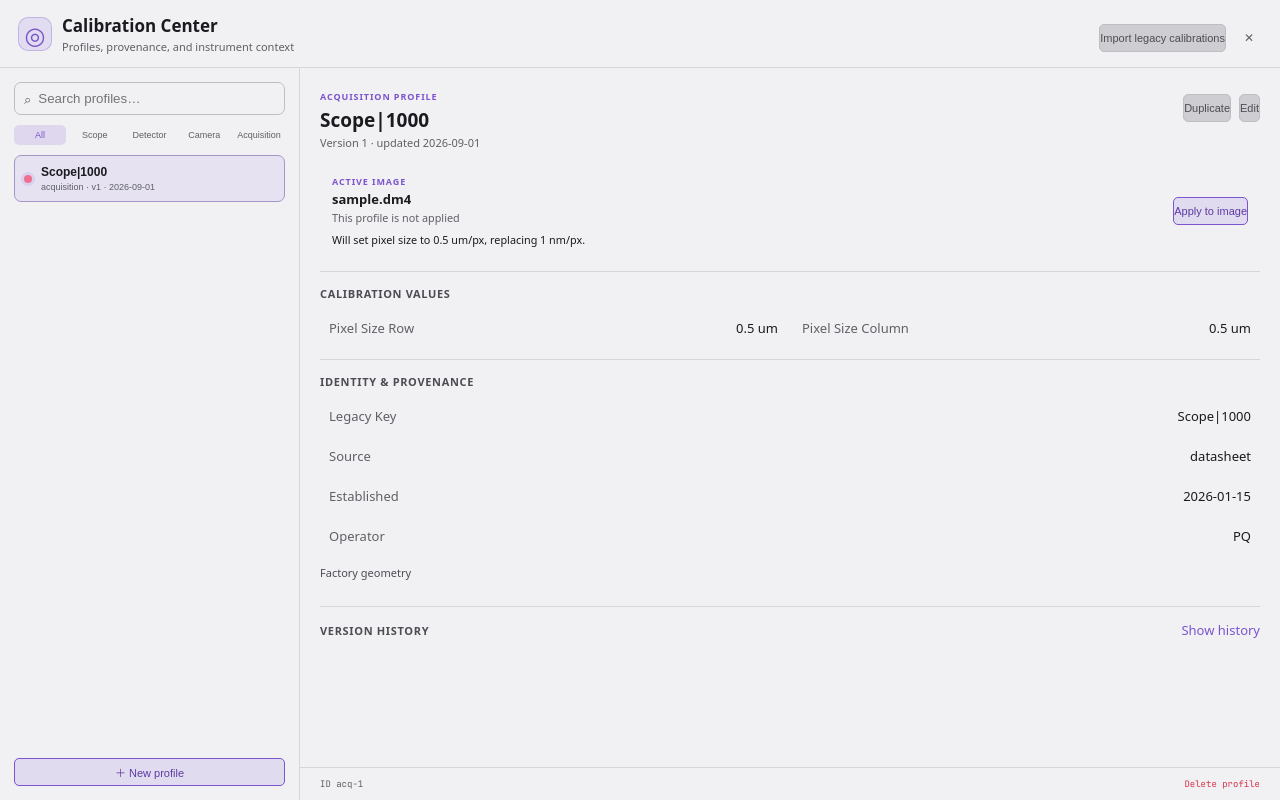
Test: shows a stored unit the select does not offer, folded to its canonical spelling
The width and height of the screenshot is (1280, 800).
Click the button "Edit" at (1250, 108), box 1239,94 -> 1260,122
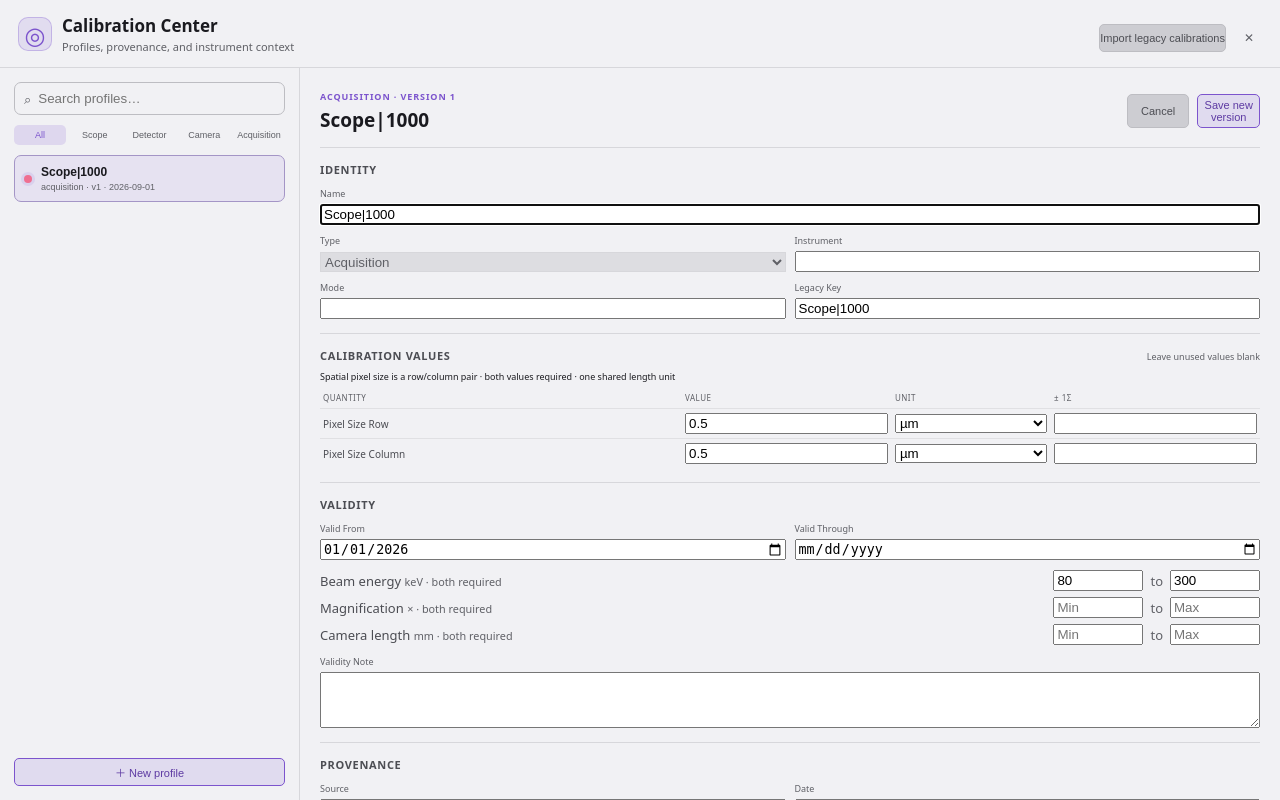
Result: the dropdown named "pixel_size_row unit" shows "µm" at 895,414 -> 1047,433
